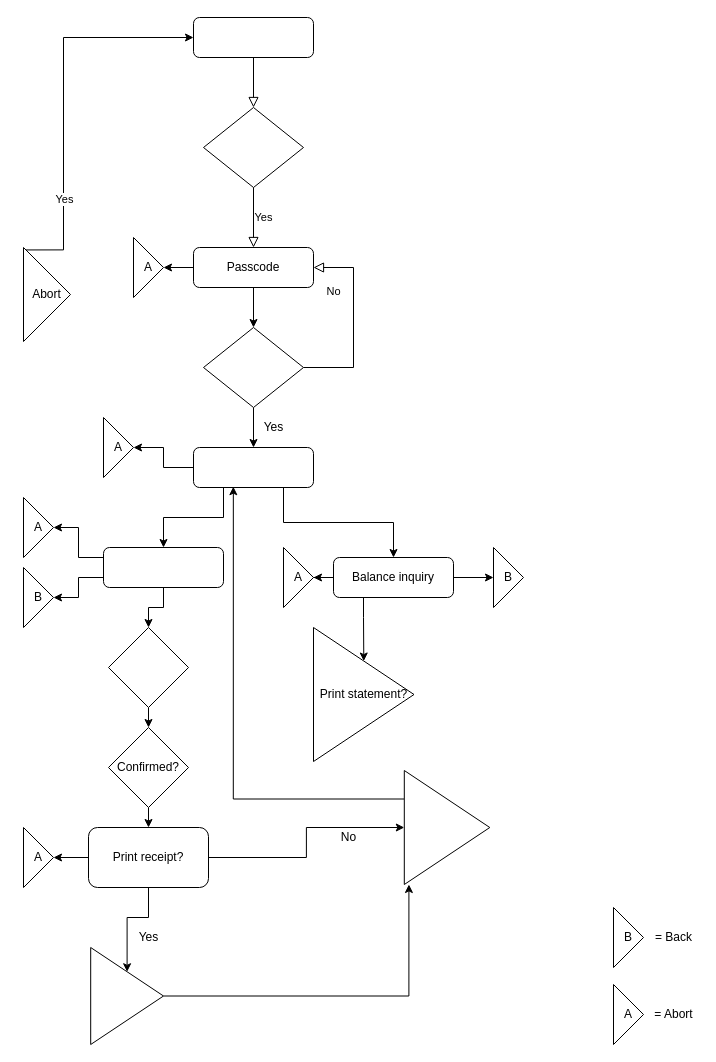
The diagram is 716 pixels wide and 1062 high, and some of its shapes have lost their labels. The box of each missing label's shape, as (x1, y1, x2, y2) in pixels:
Amount selected?: (108, 626, 188, 708)
Dispense money: (403, 770, 490, 884)
Index: (192, 16, 314, 58)
Is card scanned?: (202, 106, 304, 188)
Menu: (192, 446, 314, 488)
Pincode correct?: (202, 326, 304, 408)
Print receipt: (90, 946, 164, 1044)
Withdrawal: (102, 546, 224, 588)
